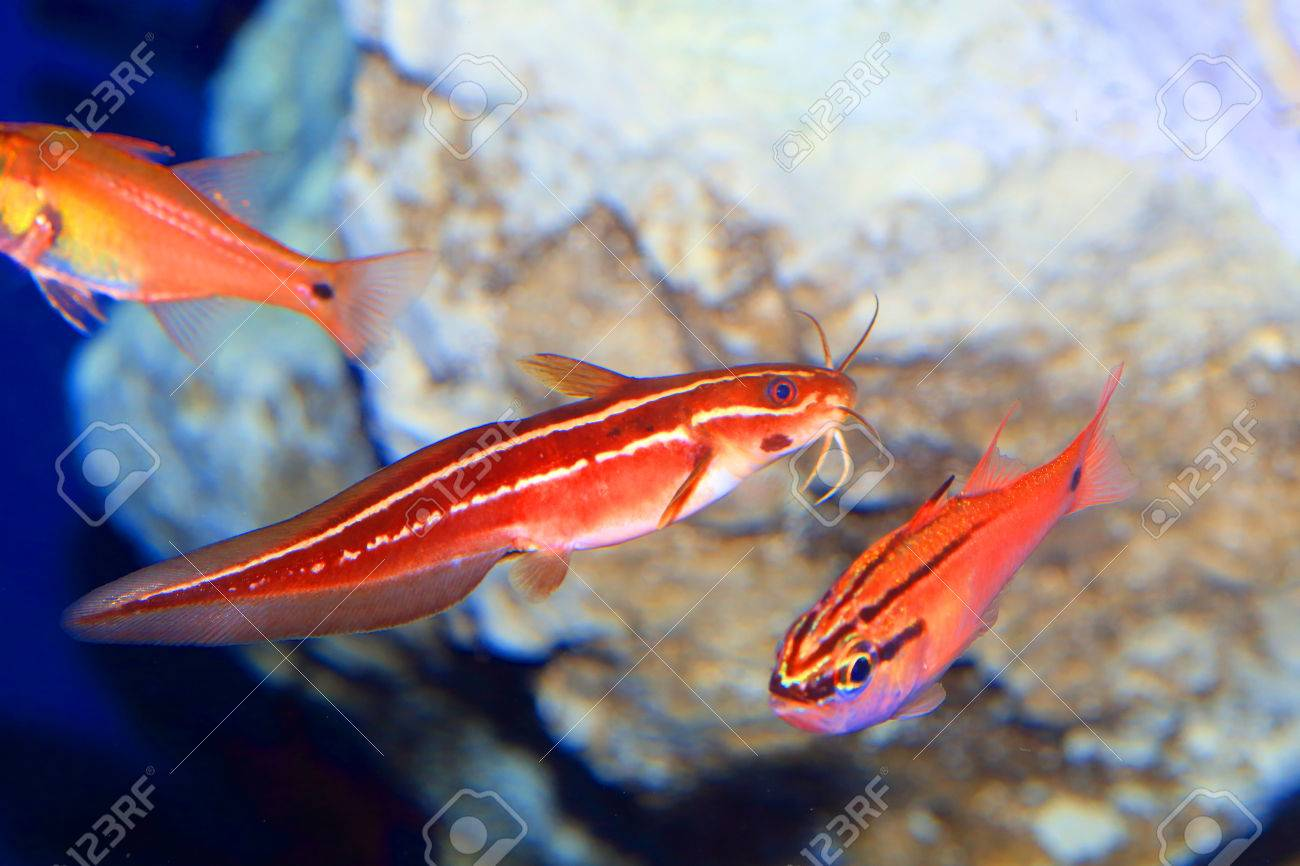gonzui: (61, 313, 921, 640)
